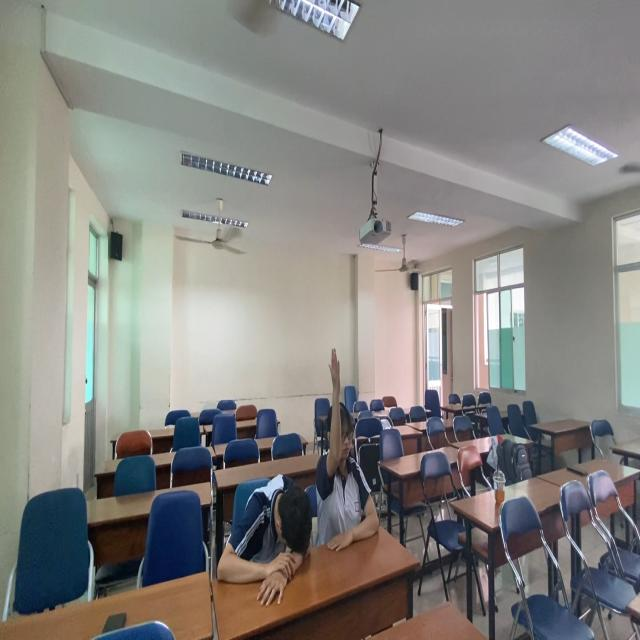raise_hand: (318, 344, 387, 558)
sleep: (214, 470, 315, 610)
